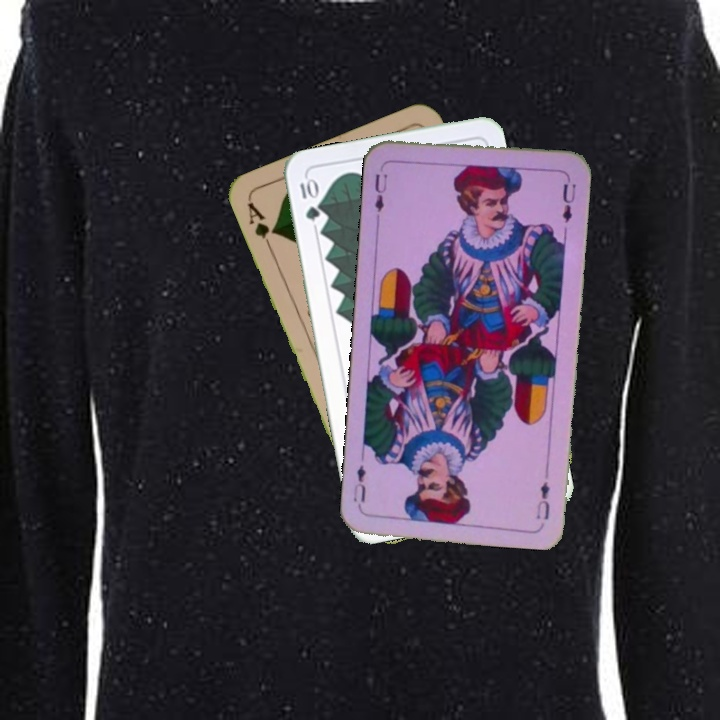EU: (370, 162, 390, 215), (532, 477, 553, 523)
G10: (296, 174, 322, 223)
GA: (243, 198, 279, 253)
